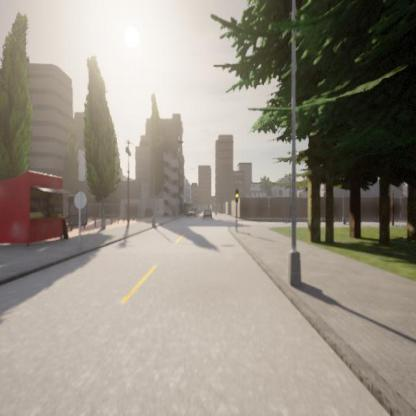traffic_light_orange: (235, 189, 238, 203)
